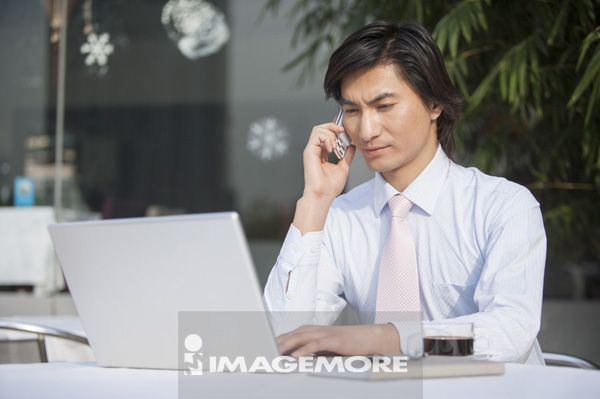talk: (301, 90, 406, 205)
